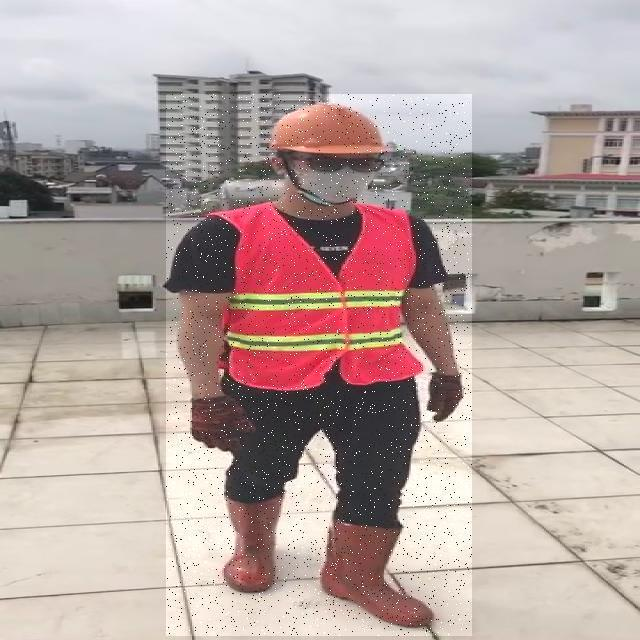Gloves: (188, 398, 256, 452), (425, 372, 466, 421)
Helmet: (260, 100, 398, 156)
Human: (166, 94, 472, 636)
Safety Boot: (318, 517, 436, 627), (222, 493, 279, 593)
Safety Vest: (224, 208, 420, 386)
